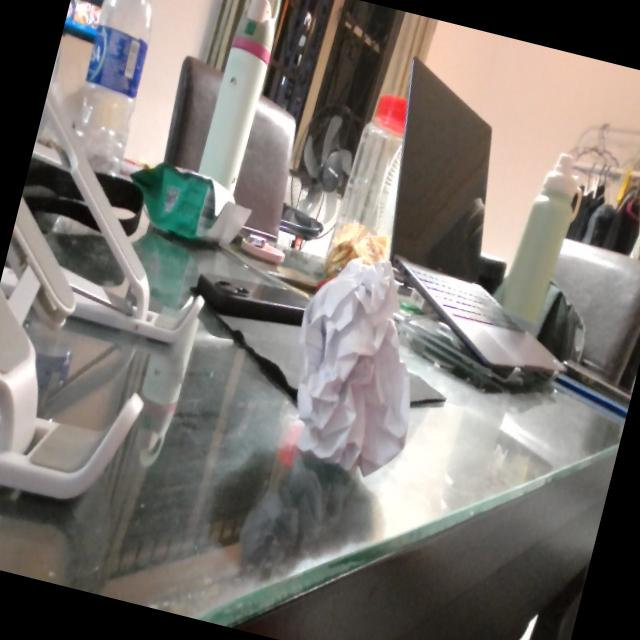crumpled_paper: (268, 246, 449, 490)
